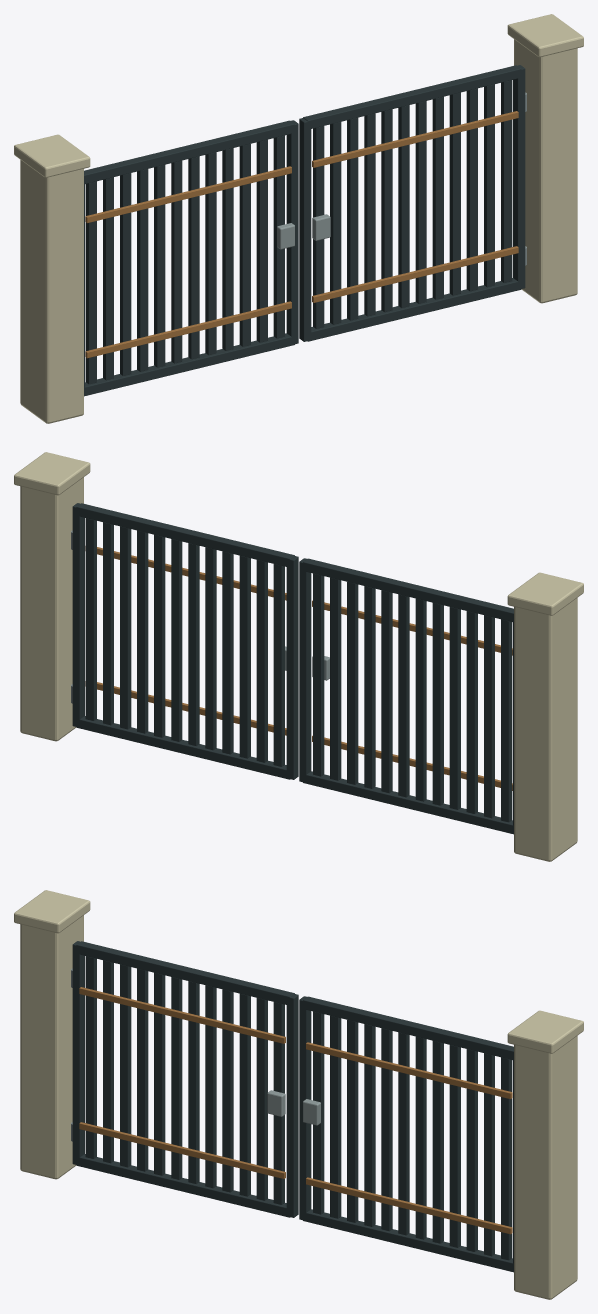
3 views of the same model, one above another, from view 1: azimuth 30°, elevation 25°; view 2: azimuth 150°, elevation 25°; view 3: azimuth 330°, elevation 25° (orthographic).
Parts seen in each view (by area): view 1: PIER, PIER.001, Right_Rail.001, Left_Rail.001, Right_Stile.001, Right_Rail, Right_Stile, Left_Rail, Left_Stile.001, Left_Slat_8, Right_Slat_9, Left_Slat_4 (+27 smaller); view 2: PIER, PIER.001, Right_Rail.001, Left_Rail.001, Right_Stile.001, Left_Stile.001, Right_Stile, Right_Rail, Left_Rail, Left_Slat_6, Right_Slat_7, Left_Slat_3 (+27 smaller); view 3: PIER.001, PIER, Left_Rail.001, Right_Rail.001, Left_Stile.001, Left_Stile, Left_Rail, Right_Rail, Right_Stile.001, Left_Slat_9, Right_Slat_8, Left_Slat_8 (+27 smaller).
Boxes of the visible parts, box(x1,y1,x2,y2) form: PIER: box(20, 160, 83, 423); PIER.001: box(514, 39, 577, 303); Right_Rail.001: box(303, 65, 521, 128); Left_Rail.001: box(84, 120, 294, 183); Right_Stile.001: box(299, 118, 311, 341); Right_Rail: box(308, 278, 521, 341); Right_Stile: box(513, 65, 525, 288); Left_Rail: box(84, 333, 294, 396); Left_Stile.001: box(286, 120, 298, 344); Left_Slat_8: box(222, 148, 233, 350); Right_Slat_9: box(347, 117, 358, 320); Left_Slat_4: box(154, 165, 165, 367); PIER: box(514, 598, 577, 861); PIER.001: box(20, 477, 83, 741); Right_Rail.001: box(76, 503, 294, 566); Left_Rail.001: box(303, 558, 513, 621); Right_Stile.001: box(286, 556, 298, 779); Left_Stile.001: box(299, 558, 311, 782); Right_Stile: box(72, 503, 84, 726); Right_Rail: box(76, 716, 289, 779); Left_Rail: box(303, 771, 513, 834); Left_Slat_6: box(398, 594, 409, 797); Right_Slat_7: box(205, 547, 216, 750); Left_Slat_3: box(449, 607, 460, 809); PIER.001: box(514, 1036, 577, 1299); PIER: box(20, 915, 83, 1179); Left_Rail.001: box(76, 941, 294, 1004); Right_Rail.001: box(303, 996, 513, 1059); Left_Stile.001: box(286, 994, 298, 1217); Left_Stile: box(72, 941, 84, 1164); Left_Rail: box(76, 1154, 289, 1217); Right_Rail: box(303, 1209, 513, 1272); Right_Stile.001: box(299, 996, 311, 1220); Left_Slat_9: box(239, 993, 250, 1196); Right_Slat_8: box(364, 1024, 375, 1226); Left_Slat_8: box(222, 989, 233, 1192).
Bounding box in the file's own units: 4.26 × 1.96 × 0.44.
